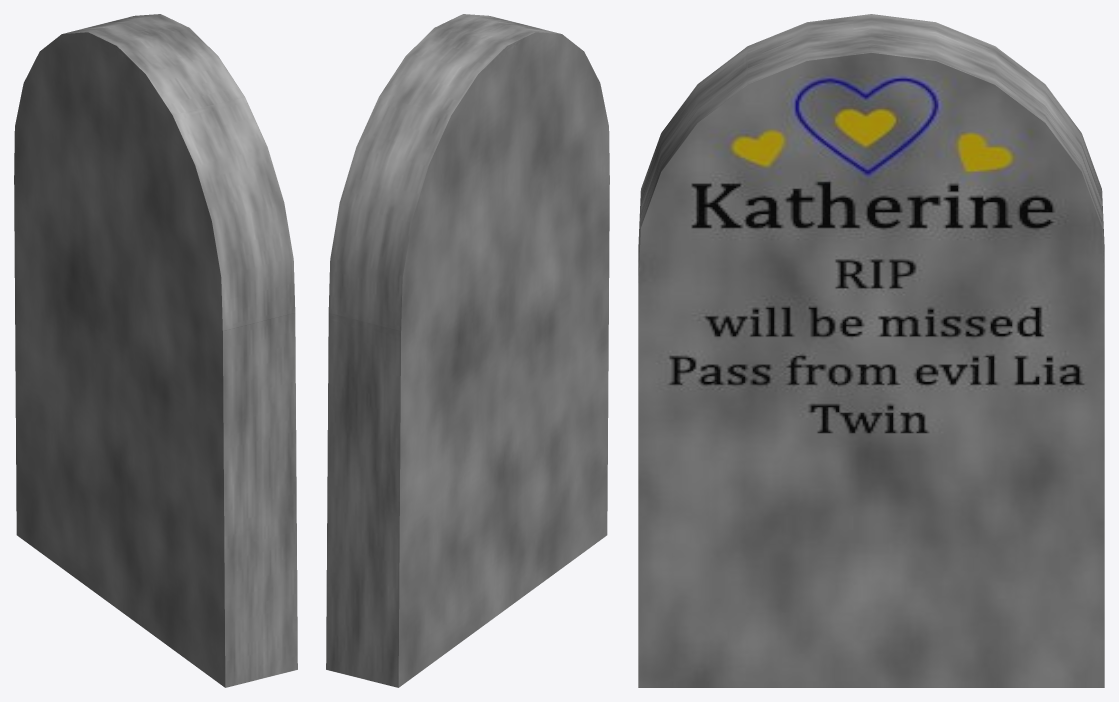
The model's file is Gravestone.kathrine.dae.
The picture shows the model from 3 angles, left to right: view 1: azimuth 30°, elevation 25°; view 2: azimuth 150°, elevation 25°; view 3: azimuth 270°, elevation 25°; orthographic projection. The views are drawn at different scales.
Visible parts, largest first — view 1: SketchUp; view 2: SketchUp; view 3: SketchUp.
Boxes of the visible parts, x1,y1,x2,y2 form: SketchUp: (14,14,297,687); SketchUp: (326,14,609,687); SketchUp: (638,14,1104,687).
Bounding box in the file's own units: 0.0341 × 0.161 × 0.2413.
1 material, 1 textured.
